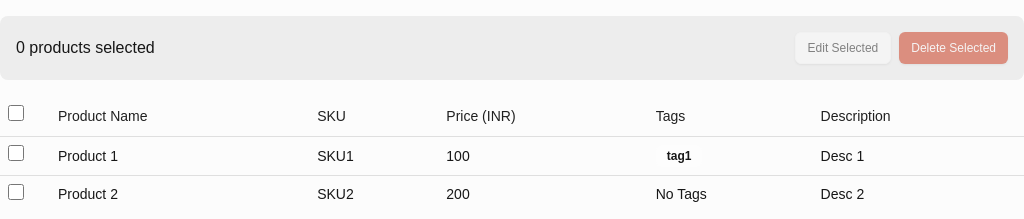
Test: BulkProductTable › updates selected count when a checkbox is clicked
Click the checkbox next to "Product 1" at [16, 153], box [8,145,24,161]
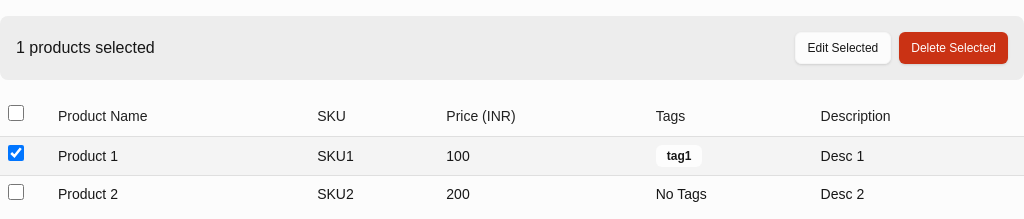
Check: the text "1 products selected" is shown, box [16,36,155,60]
Click the checkbox next to "Product 2" at [16, 192], box [8,184,24,200]
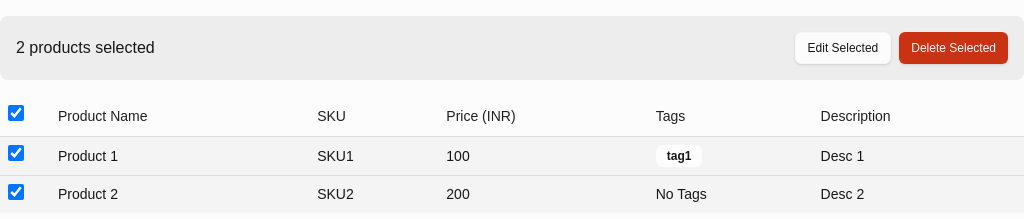
Check: the text "2 products selected" is shown, box [16,36,155,60]
